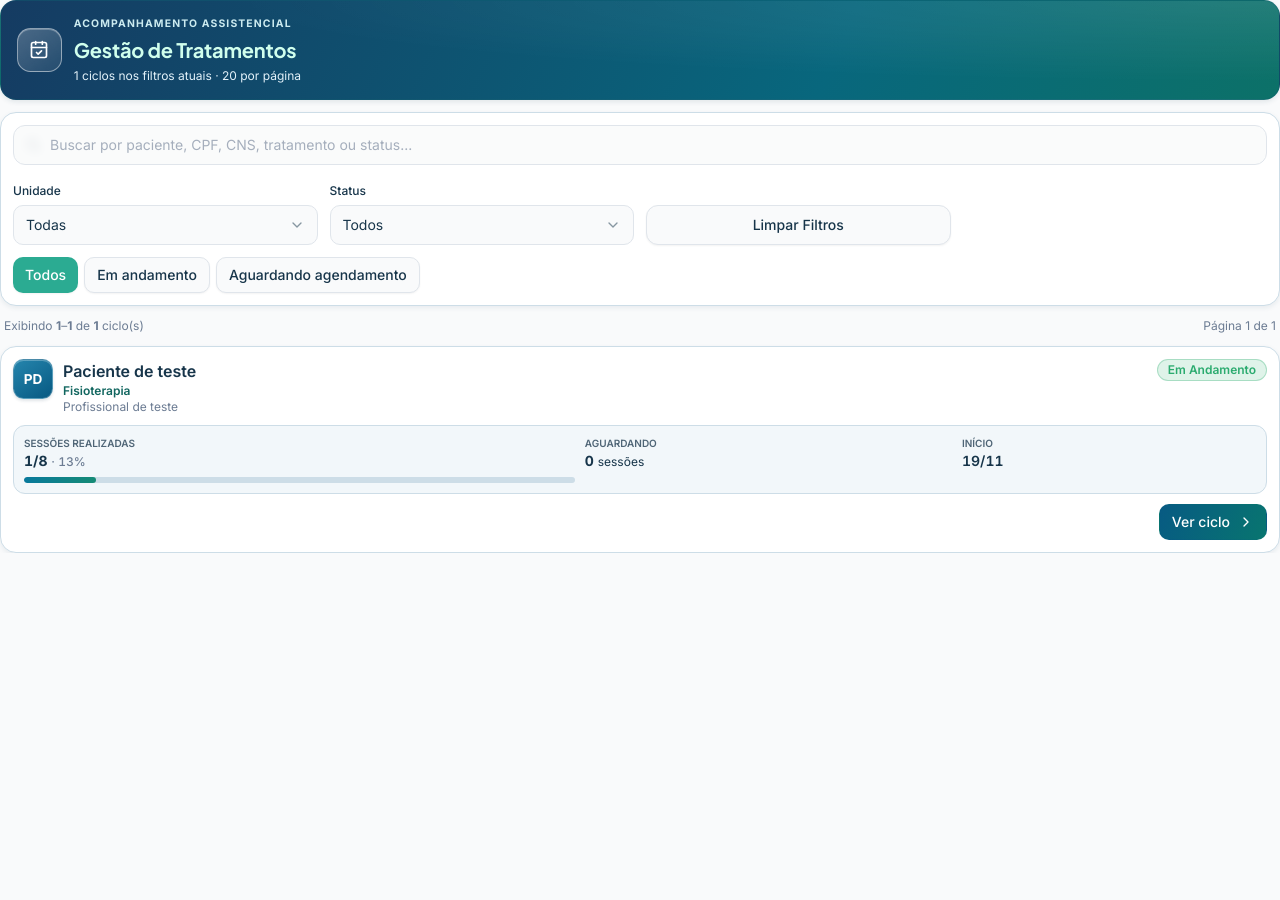
Test: Sinalização das datas das sessões › mostra os avisos a quem apenas consulta e mantém as ações restritas
Click the text "Paciente de teste" at (130, 371), box 63,361 -> 196,381
(page scrolled)
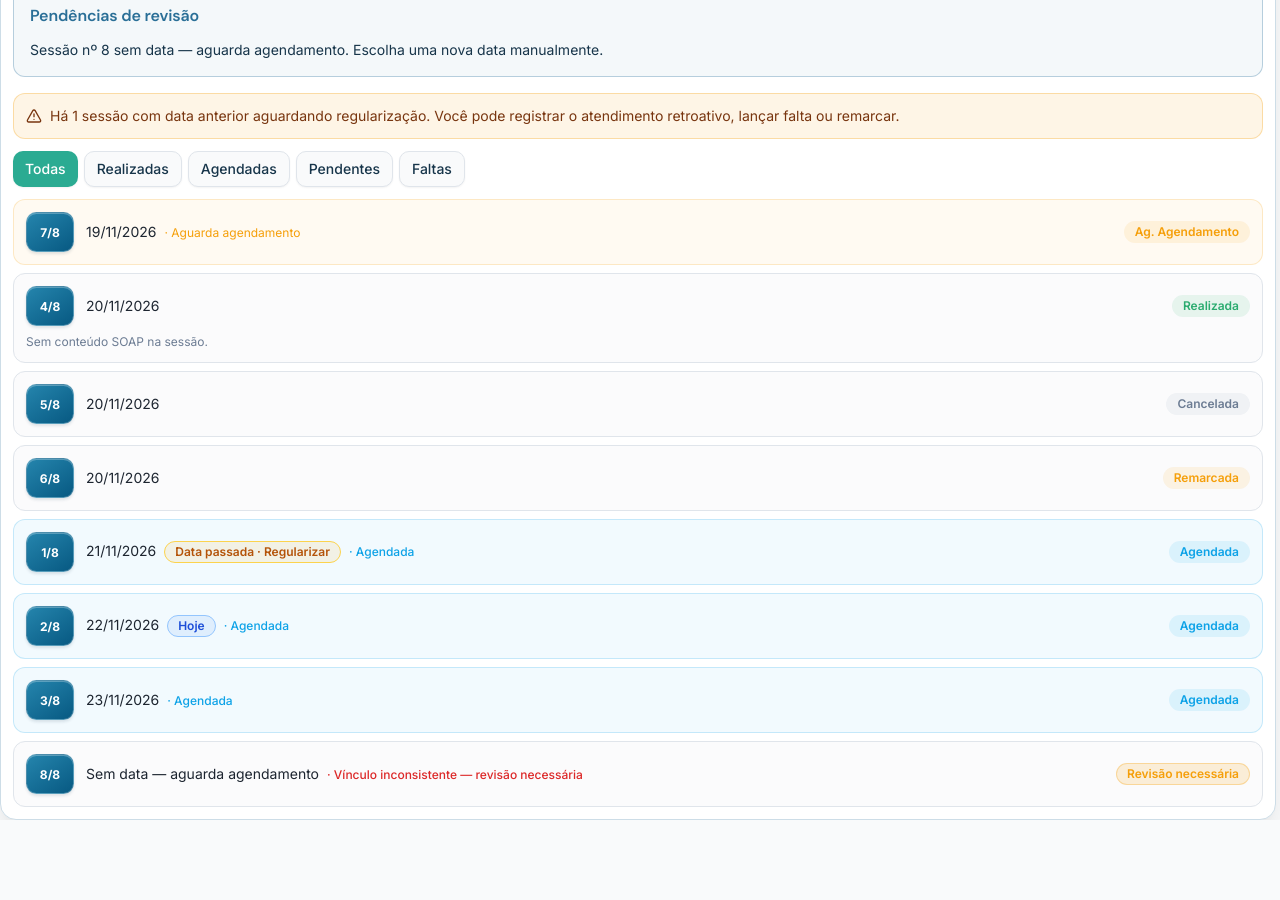
Expected: the text "Data passada · Regularizar" is shown, 164,542 -> 341,564
